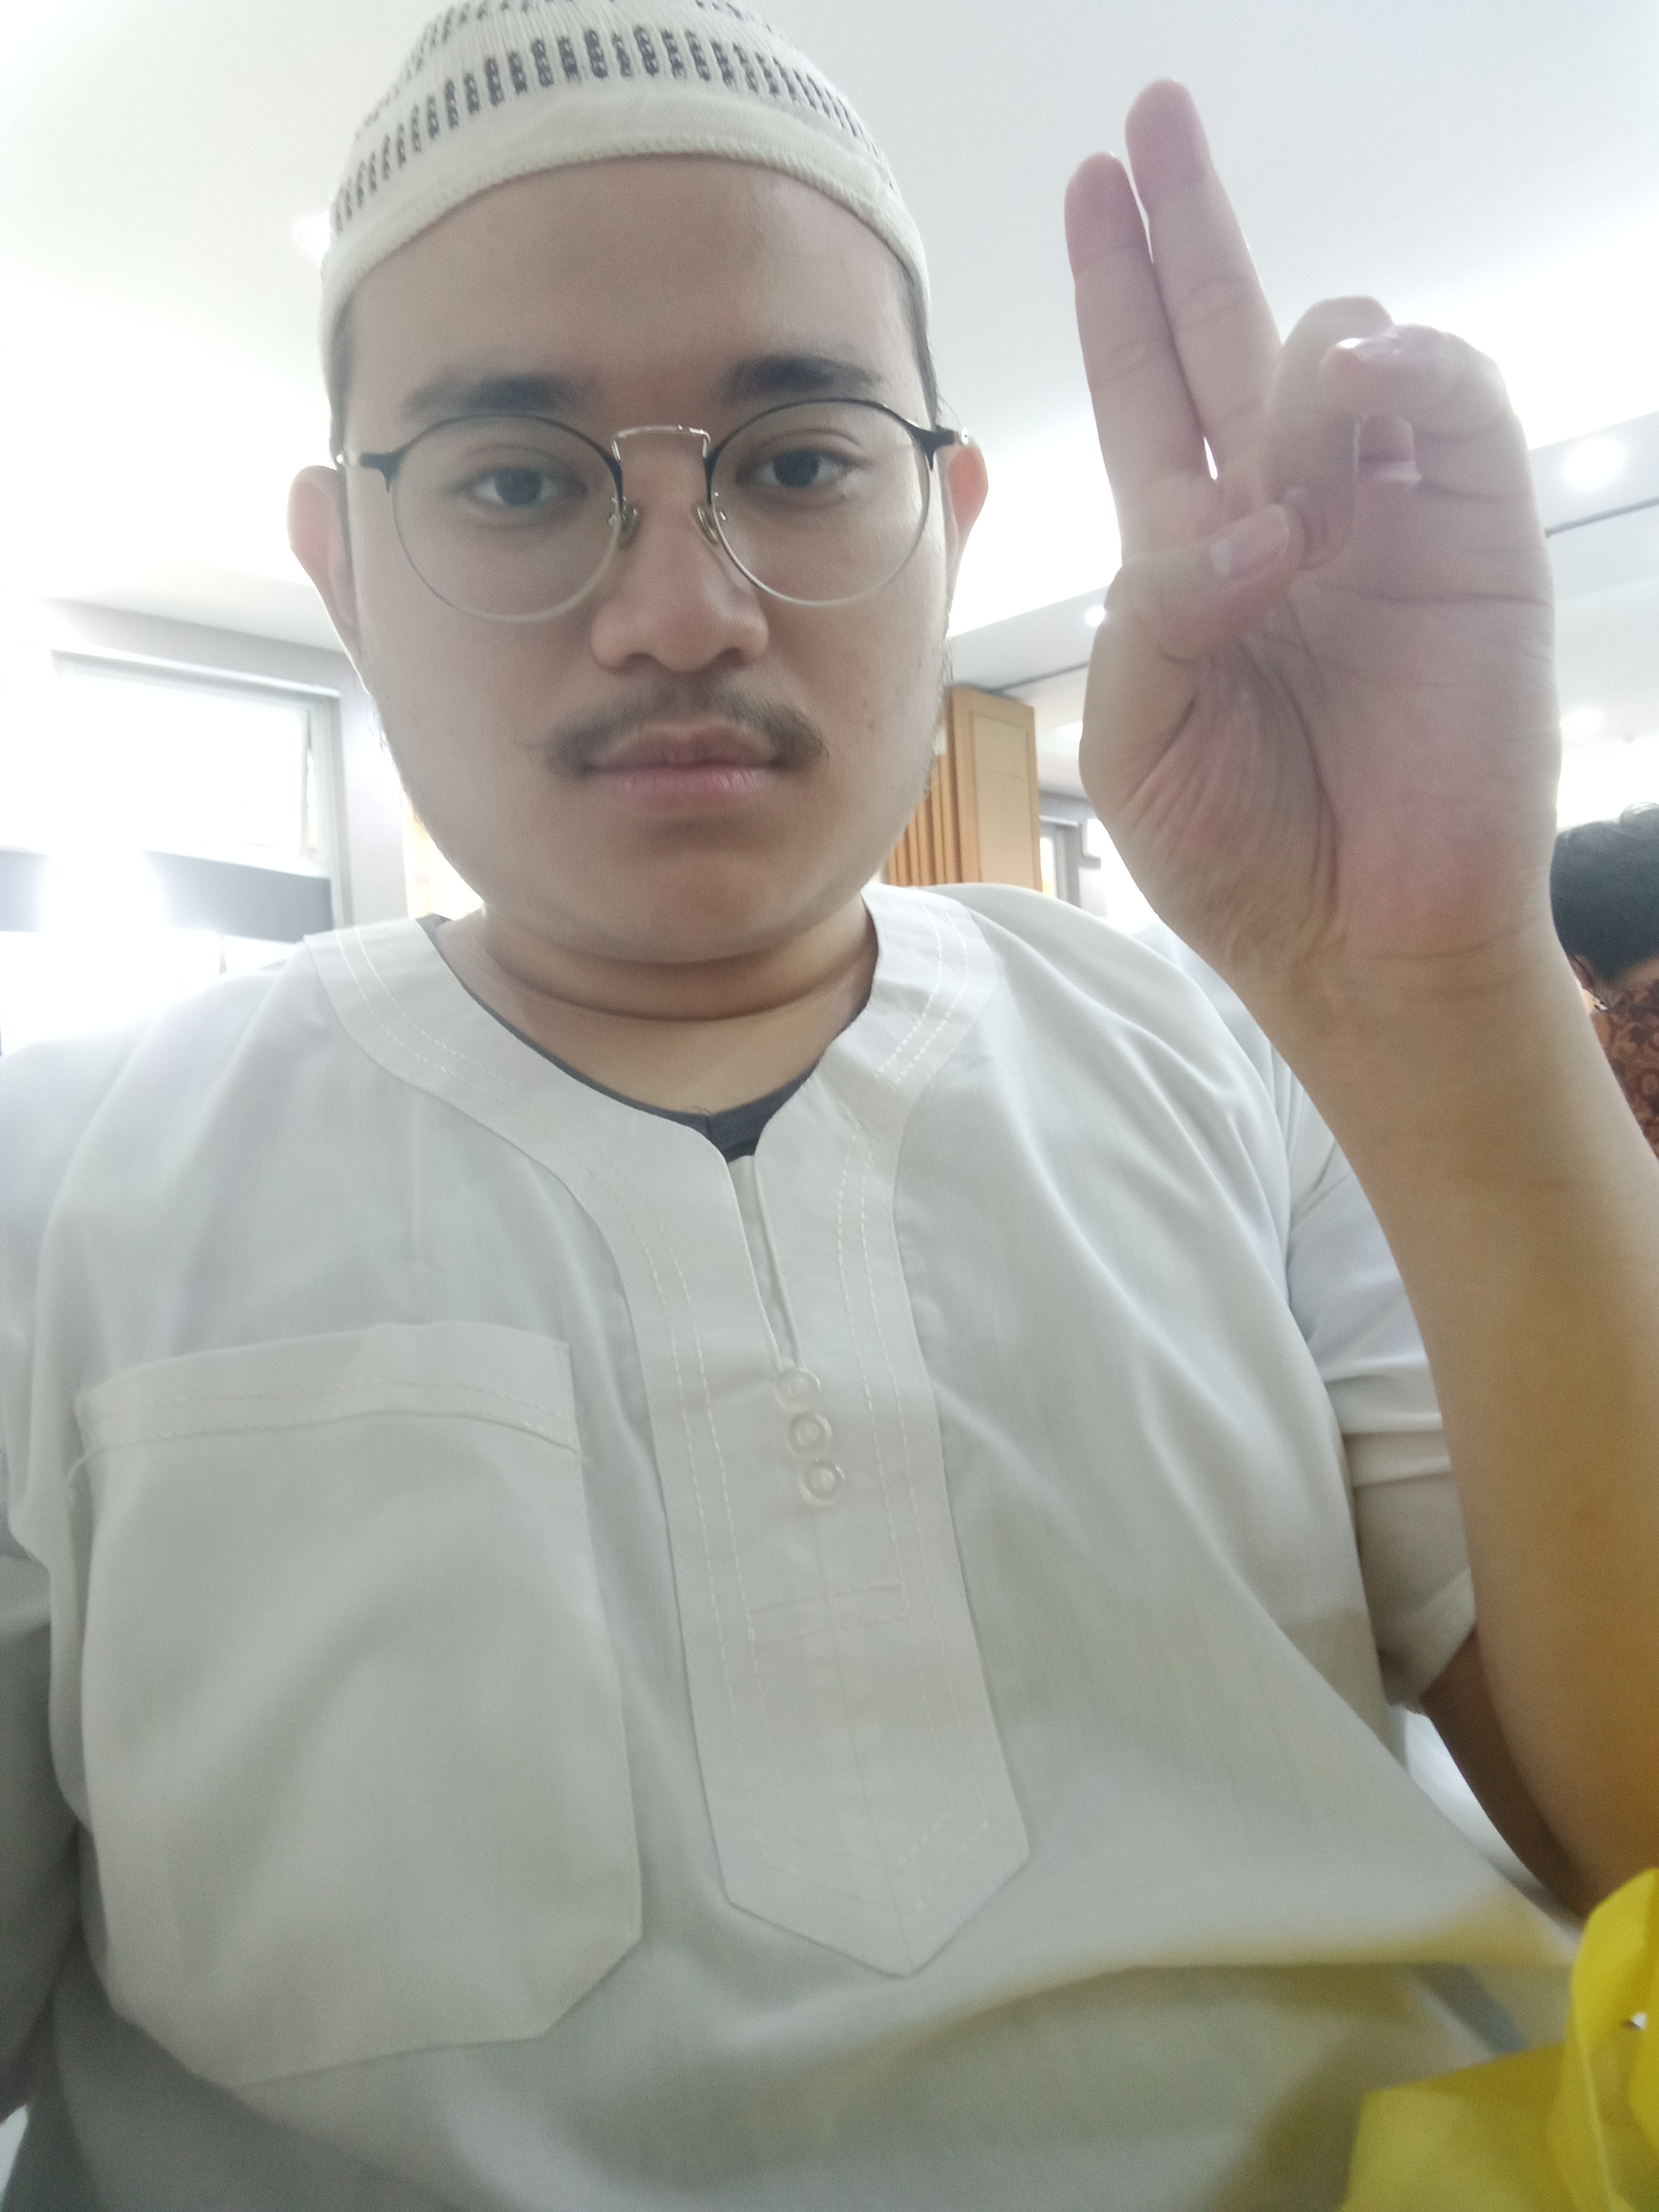U: (983, 14, 1619, 995)
